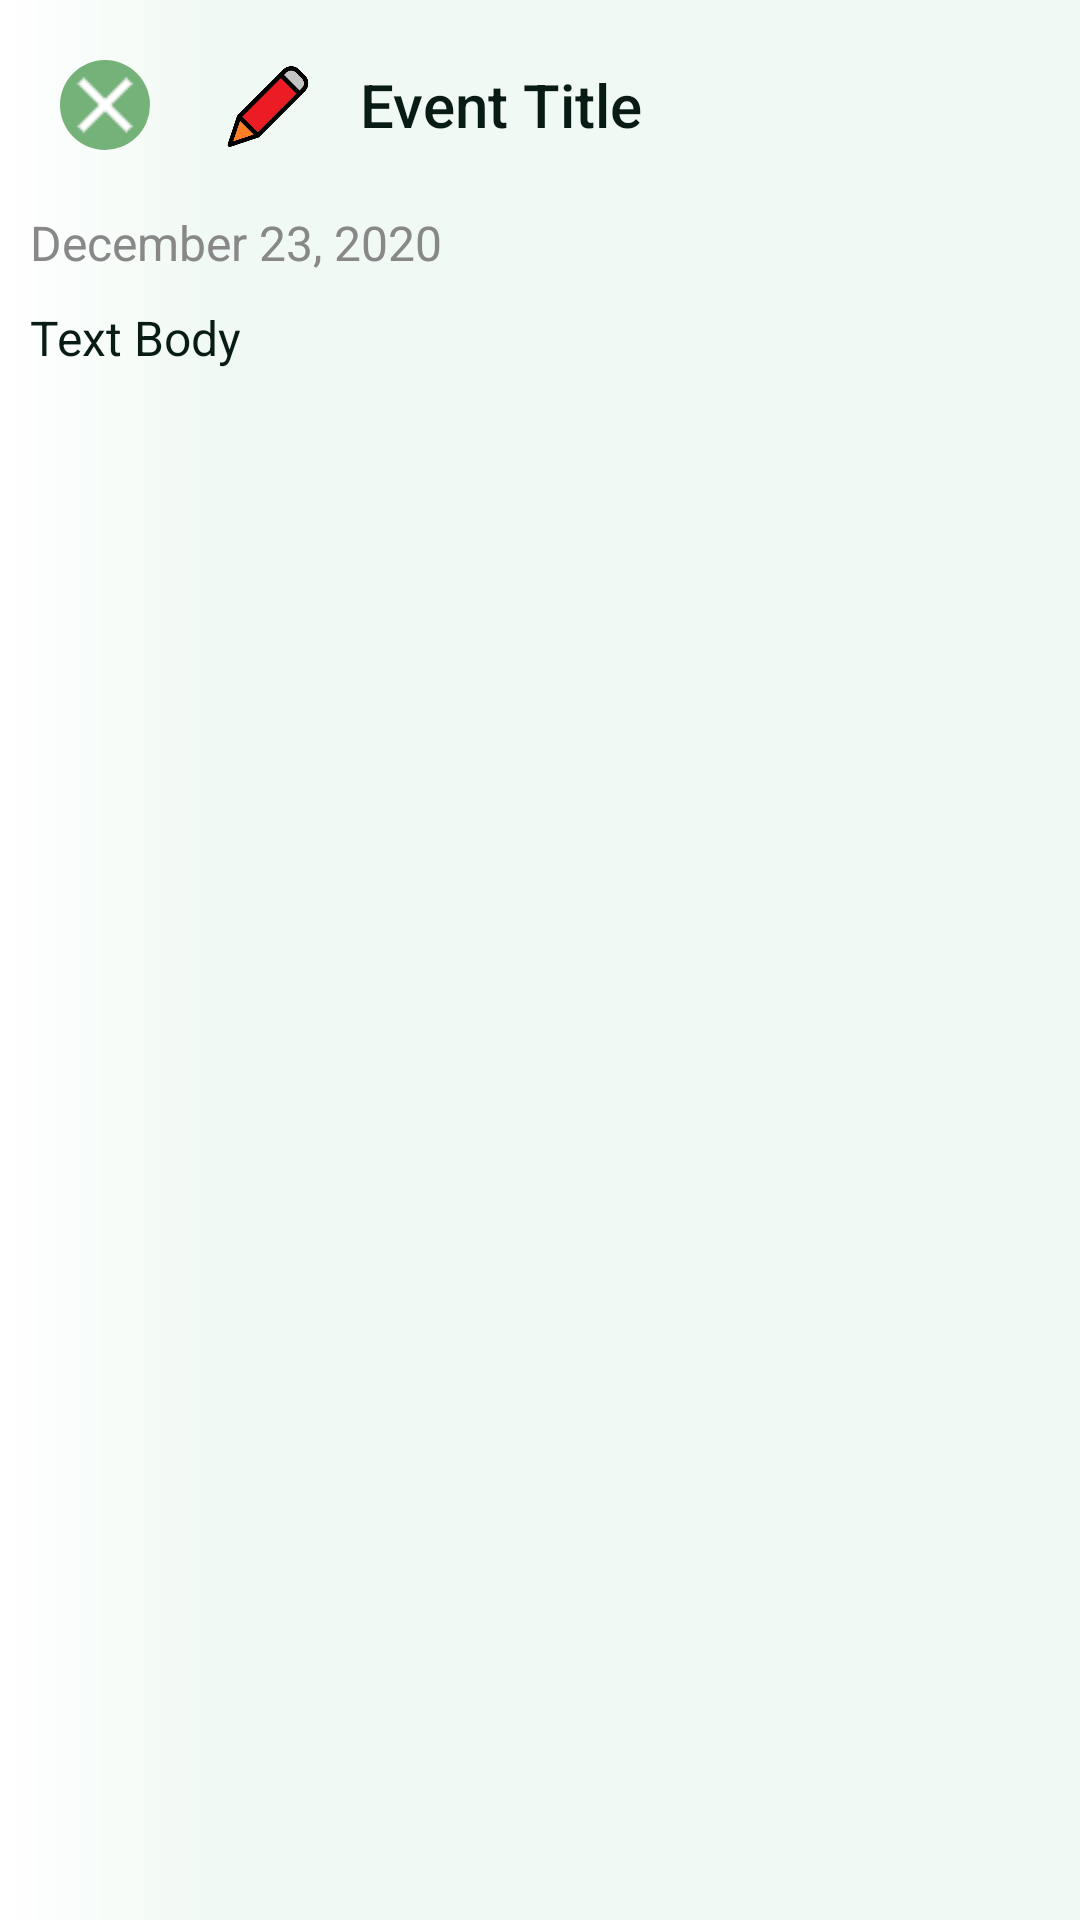

Where icons sit on this 1080*1920 app screen, as (x1, y1, x2, y2):
pen: (227, 66, 309, 147)
